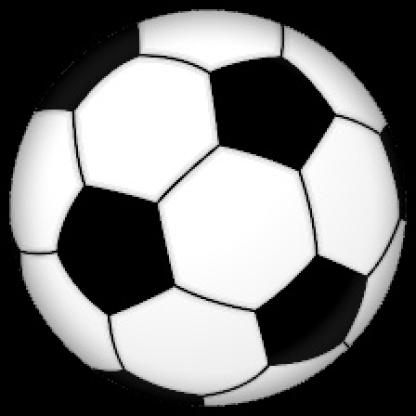ball: (11, 4, 414, 412)
